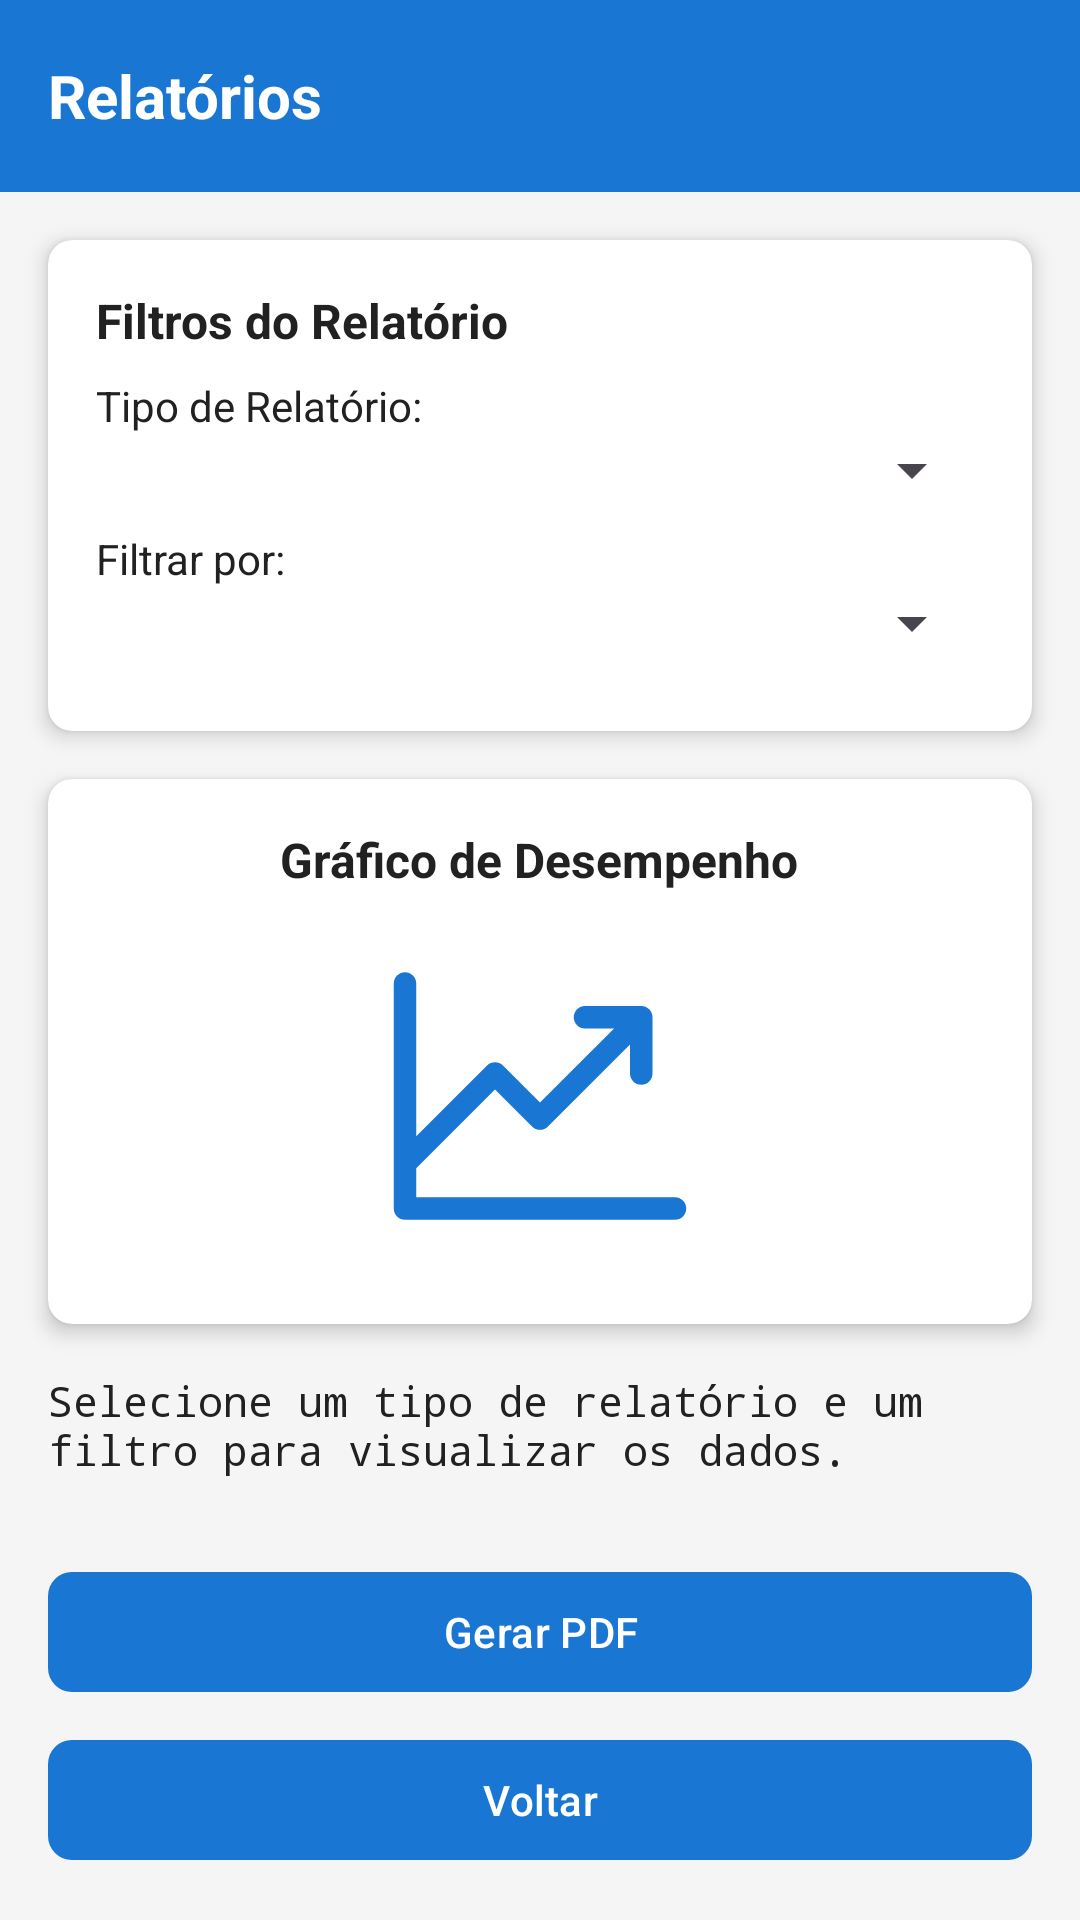

Screen size 1080px x 1920px. Icon name, then its box in pixels as (x1, y1, x2, y2):
chartlineup: (393, 972, 687, 1220)
